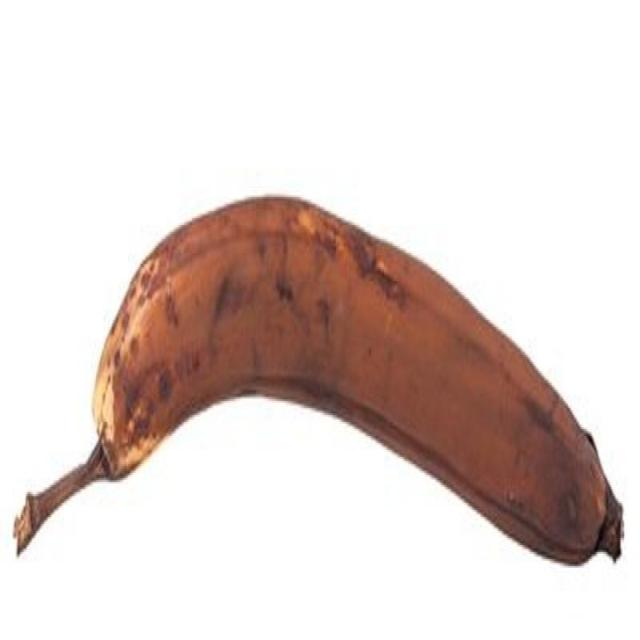Wet Waste: (10, 190, 625, 582)
